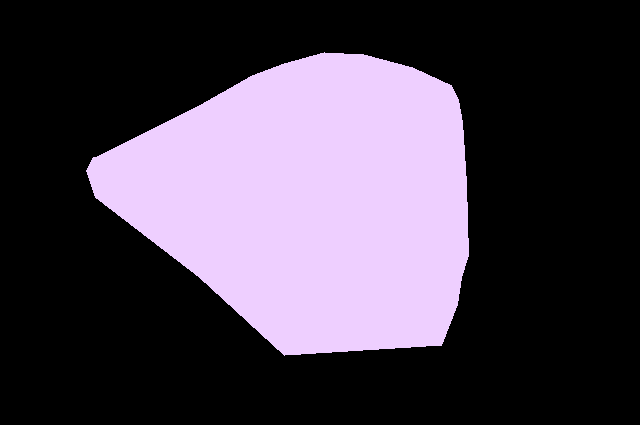Train: (86, 52, 469, 356)
